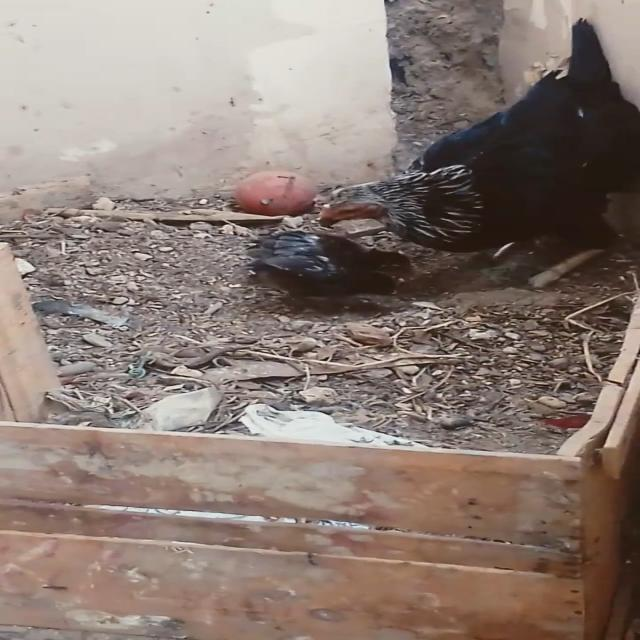stand bath: (305, 5, 640, 305)
